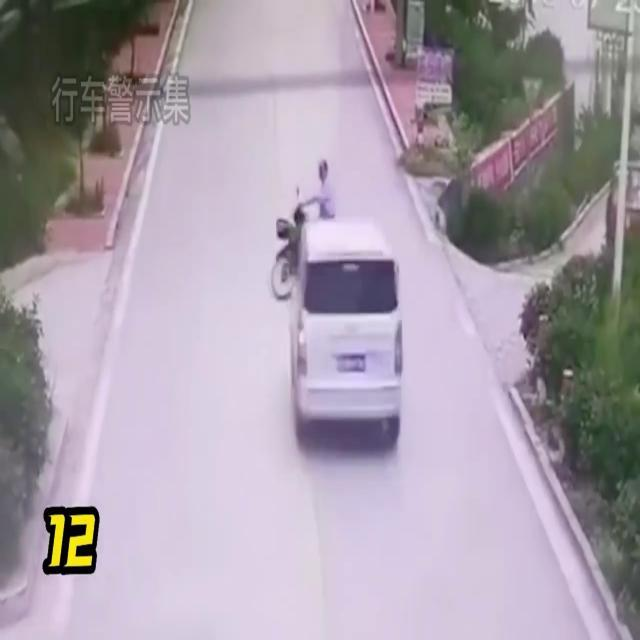multiple_accident: (257, 142, 478, 500)
